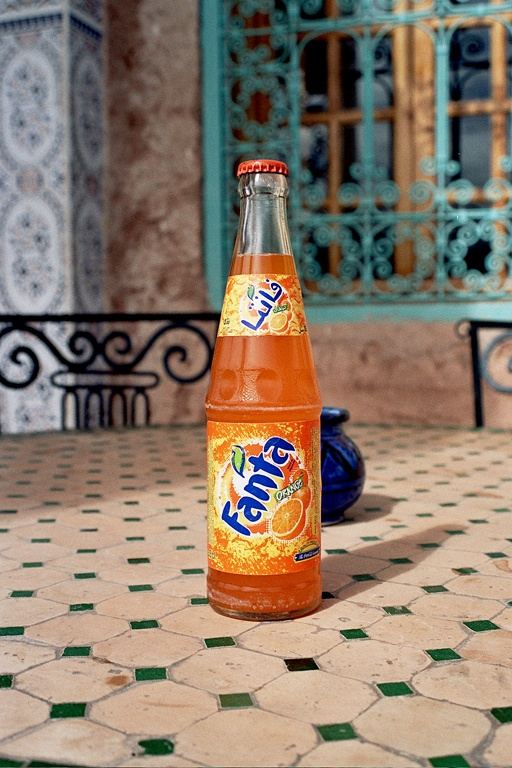fanta: (206, 158, 326, 615)
